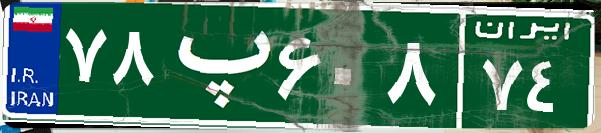0: (330, 28, 385, 110)
4: (525, 38, 570, 115)
6: (273, 28, 330, 110)
7: (57, 26, 110, 107), (475, 38, 525, 113)
8: (385, 28, 445, 110), (110, 28, 158, 105)
پ: (158, 15, 273, 115)
